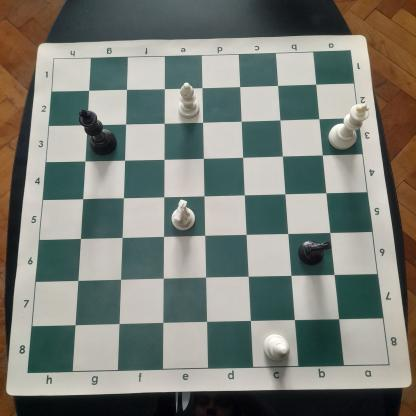black-king: (76, 106, 119, 158)
black-knight: (295, 236, 337, 268)
white-bishop: (261, 330, 293, 364), (177, 79, 201, 120)
white-king: (326, 99, 374, 152)
white-knight: (165, 196, 202, 234)
